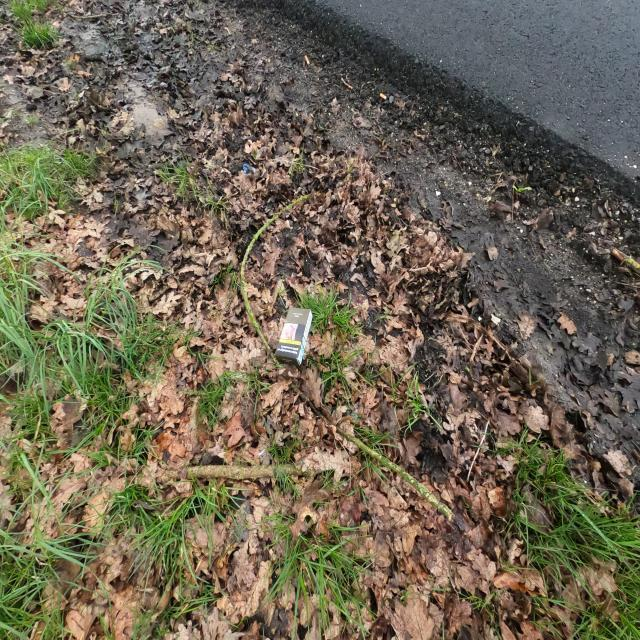Paper: (274, 306, 314, 367)
